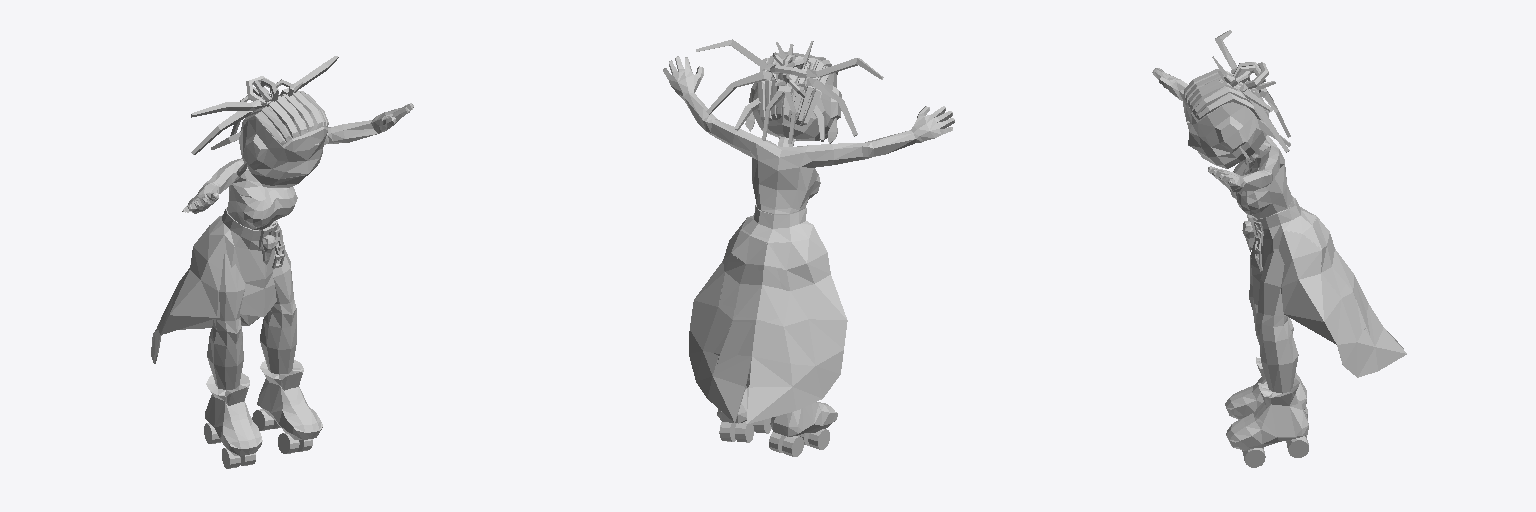
File: bruja_000192.obj
The picture shows the model from 3 angles: view 1: azimuth 30°, elevation 25°; view 2: azimuth 150°, elevation 25°; view 3: azimuth 270°, elevation 25°; orthographic projection.
Parts seen in each view (by area): view 1: Bruja_Plane.001; view 2: Bruja_Plane.001; view 3: Bruja_Plane.001.
Part boxes in pixels (x1,y1,x2,y2): Bruja_Plane.001: (151, 56, 413, 468); Bruja_Plane.001: (663, 39, 954, 456); Bruja_Plane.001: (1152, 30, 1406, 467).
Bounding box in the file's own units: 11.32 × 16.18 × 9.67.